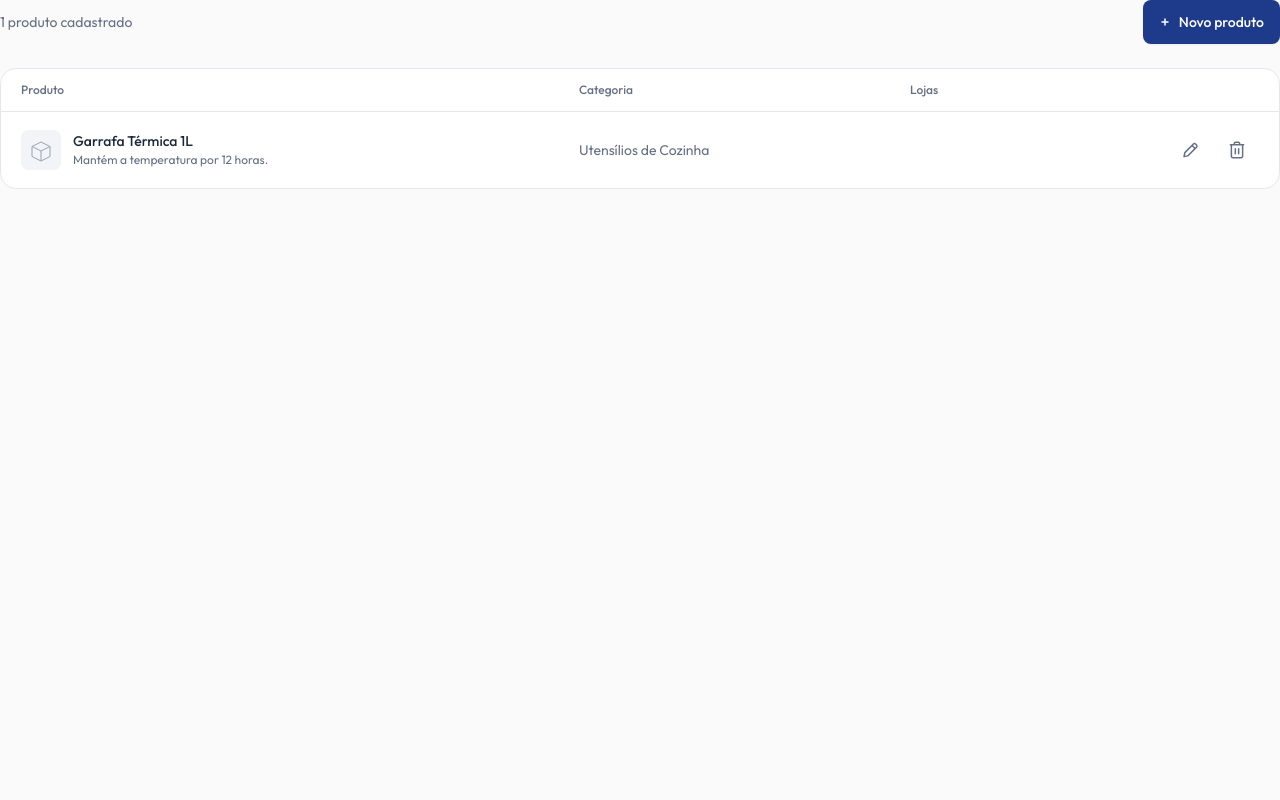
ProductAdminPanel › shows the saved data when the same product is edited again
Click the button named "Editar Garrafa Térmica 1L" at {"x": 1189, "y": 150}, box [1167, 128, 1211, 172]
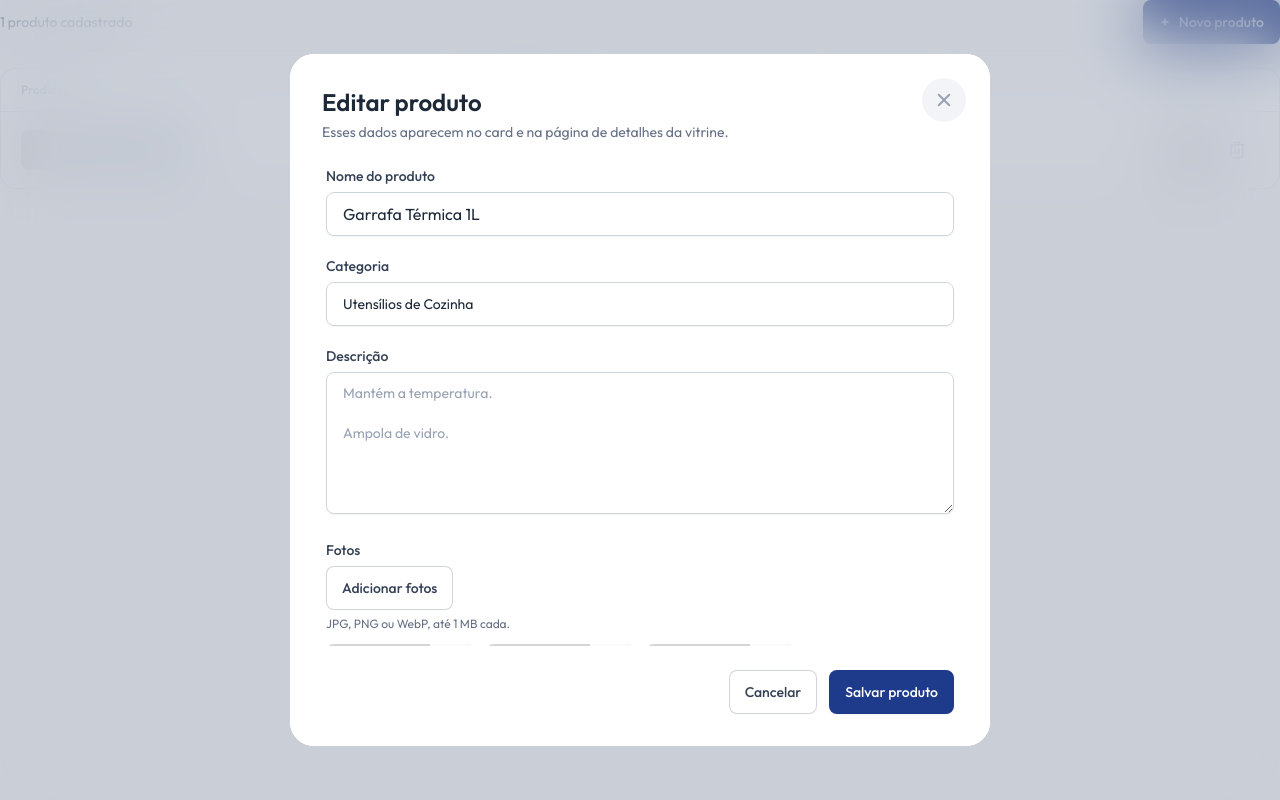
Type " Inox" into the field labelled "Nome do produto" at {"x": 640, "y": 214}, box [326, 192, 954, 236]
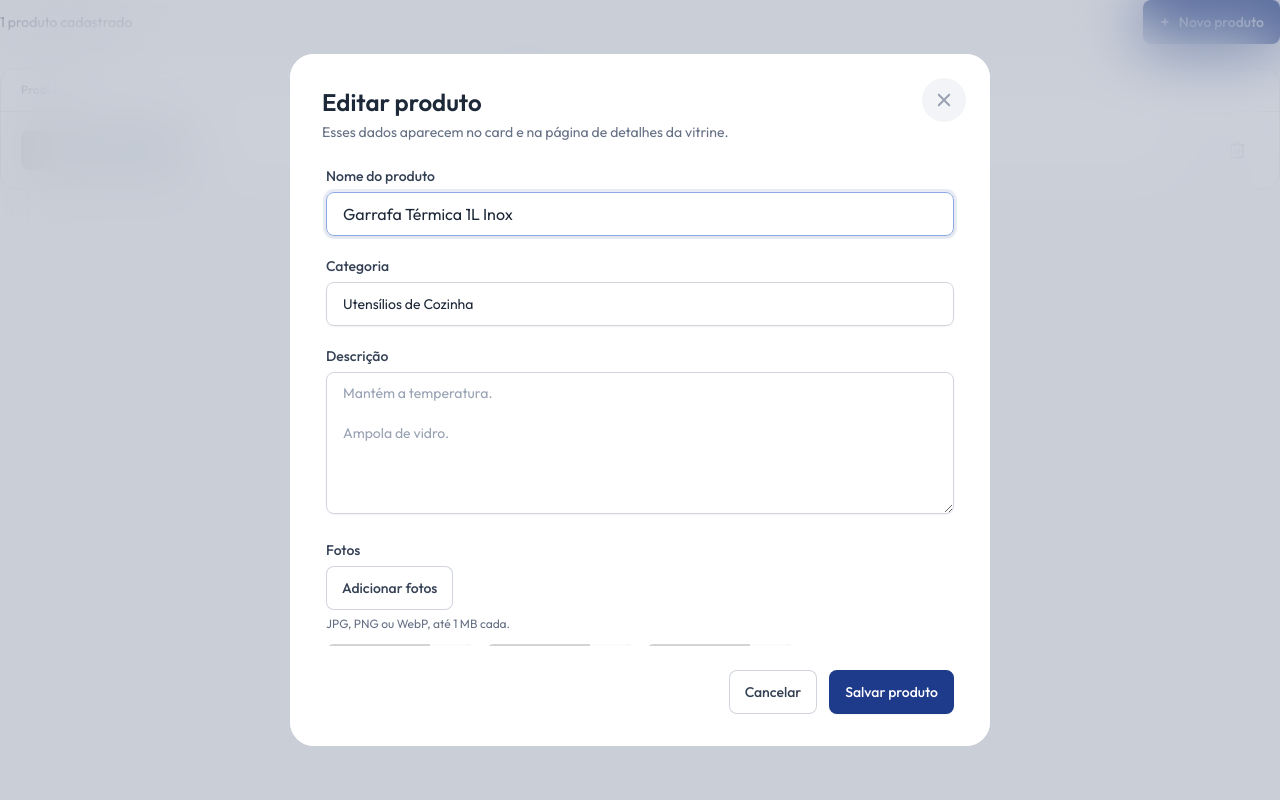
Click the button "Salvar produto" at {"x": 892, "y": 692}, box [829, 670, 954, 714]
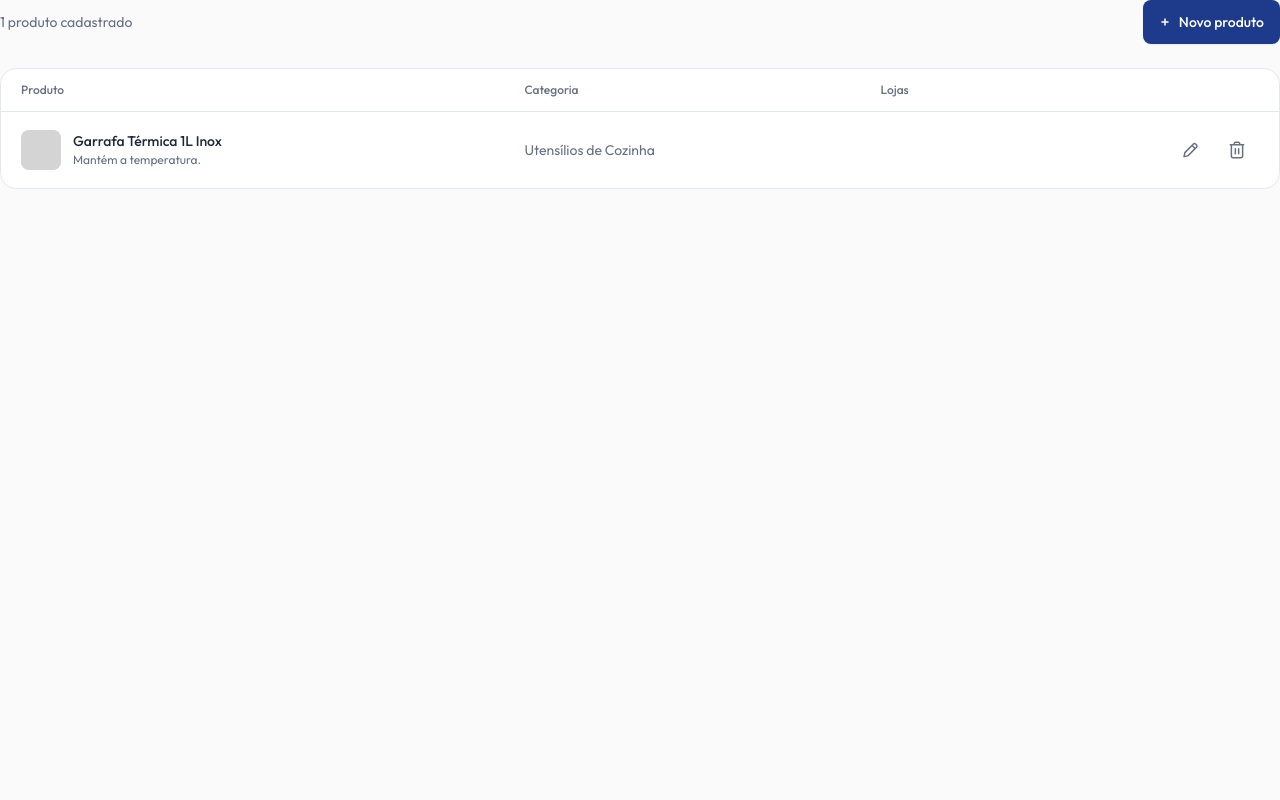
Click the button named "Editar Garrafa Térmica 1L Inox" at {"x": 1189, "y": 150}, box [1167, 128, 1211, 172]
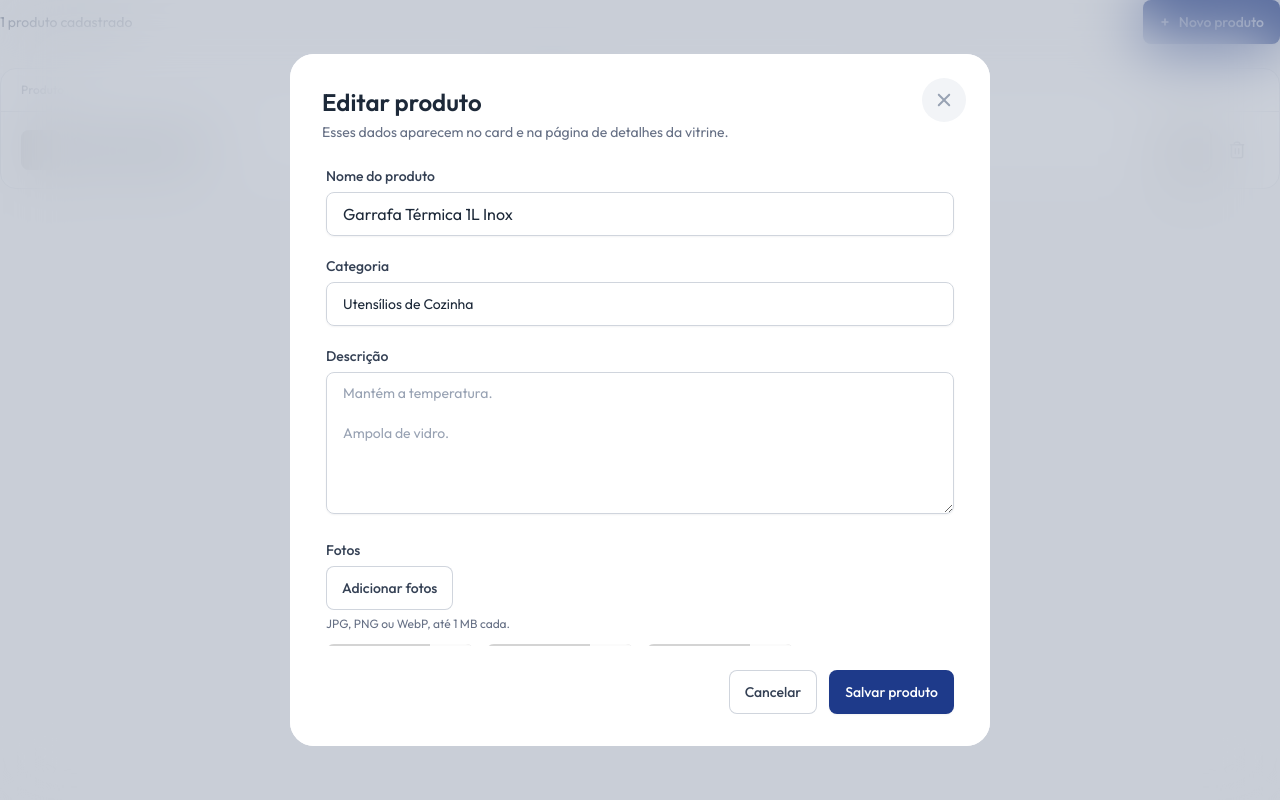
Expected: the field labelled "Nome do produto" holds "Garrafa Térmica 1L Inox", [326, 192, 954, 236]
